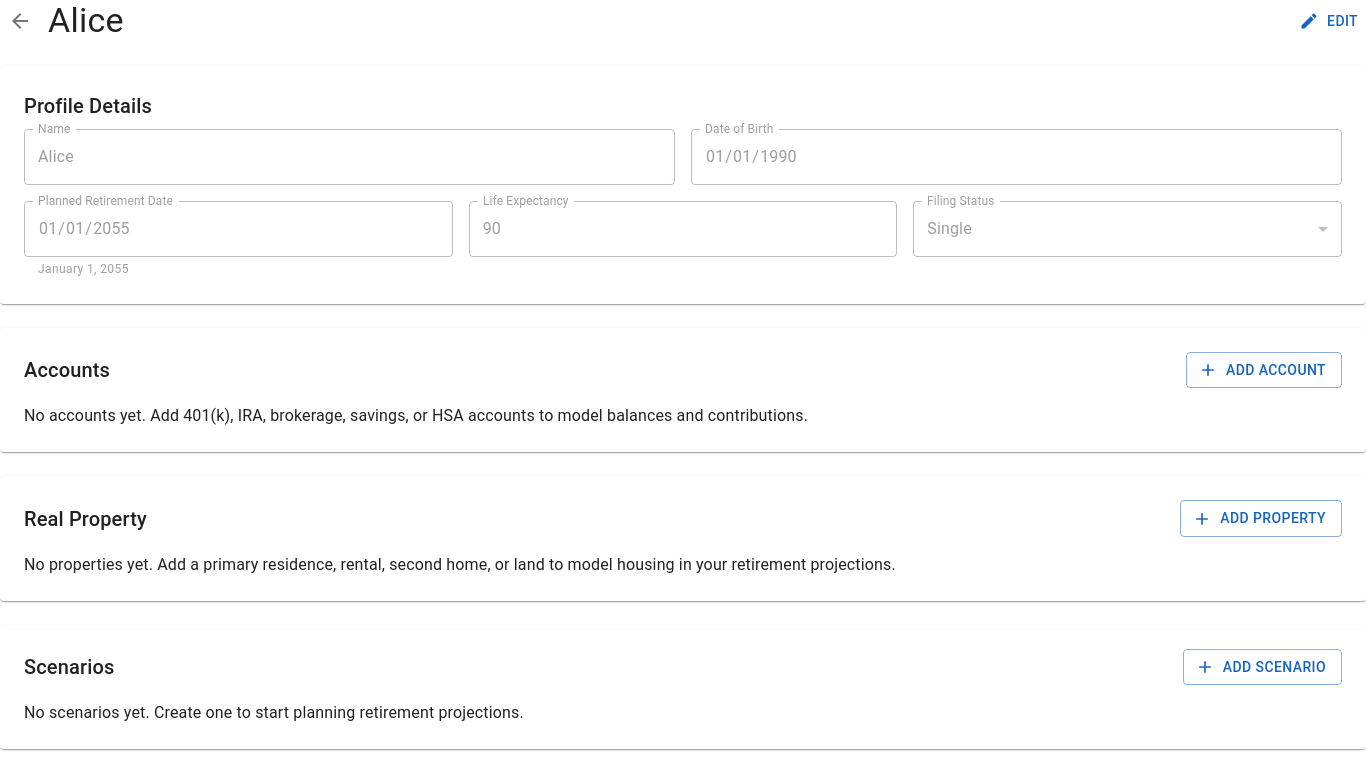
it: ProfileDetailPage › disables Replacement Housing Cost until a Planned Sale Date is entered
Click the button "Add Property": (1261, 519) [1180,500,1342,537]
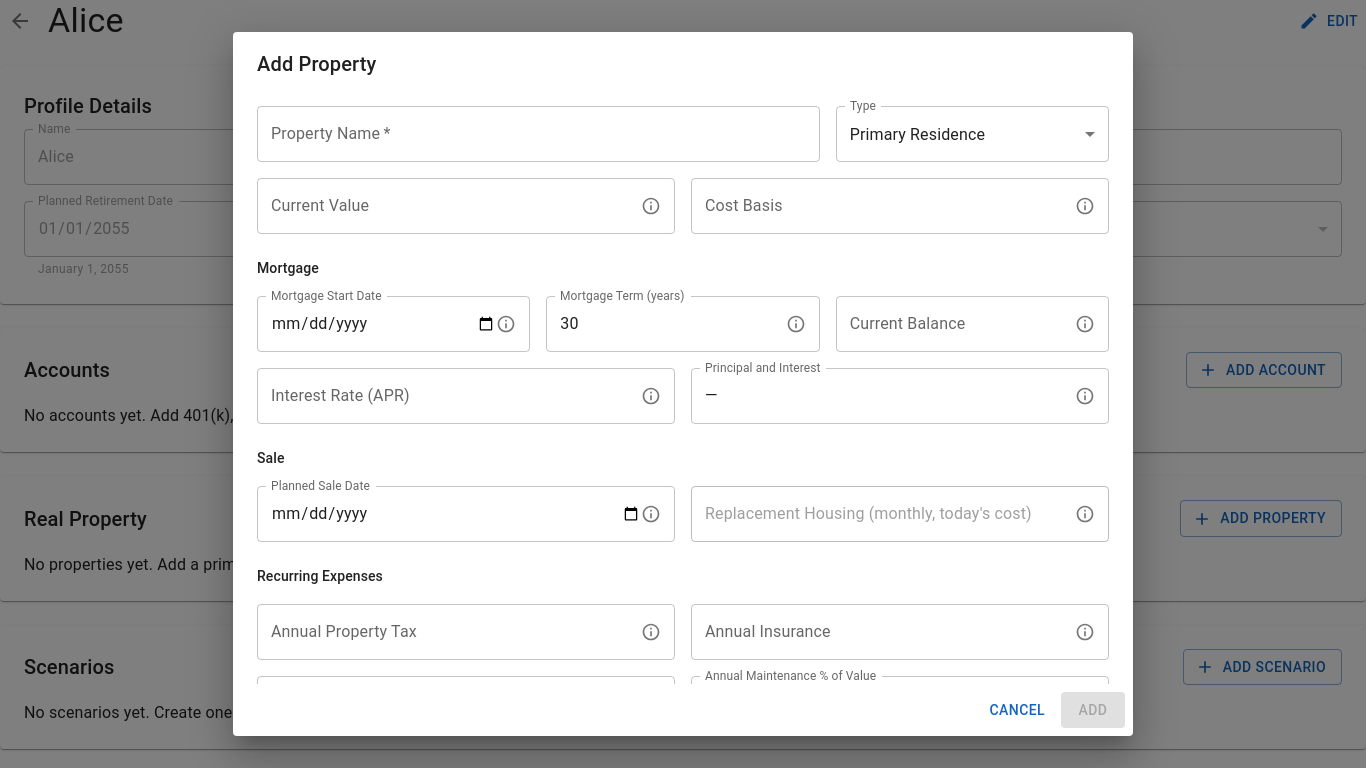
Check: the number field labelled "Replacement Housing (monthly, today's cost)" is disabled, box [691,486,1075,542]
In the date field labelled "Planned Sale Date": (449, 514) [257,486,641,542], type "2040-06-01"
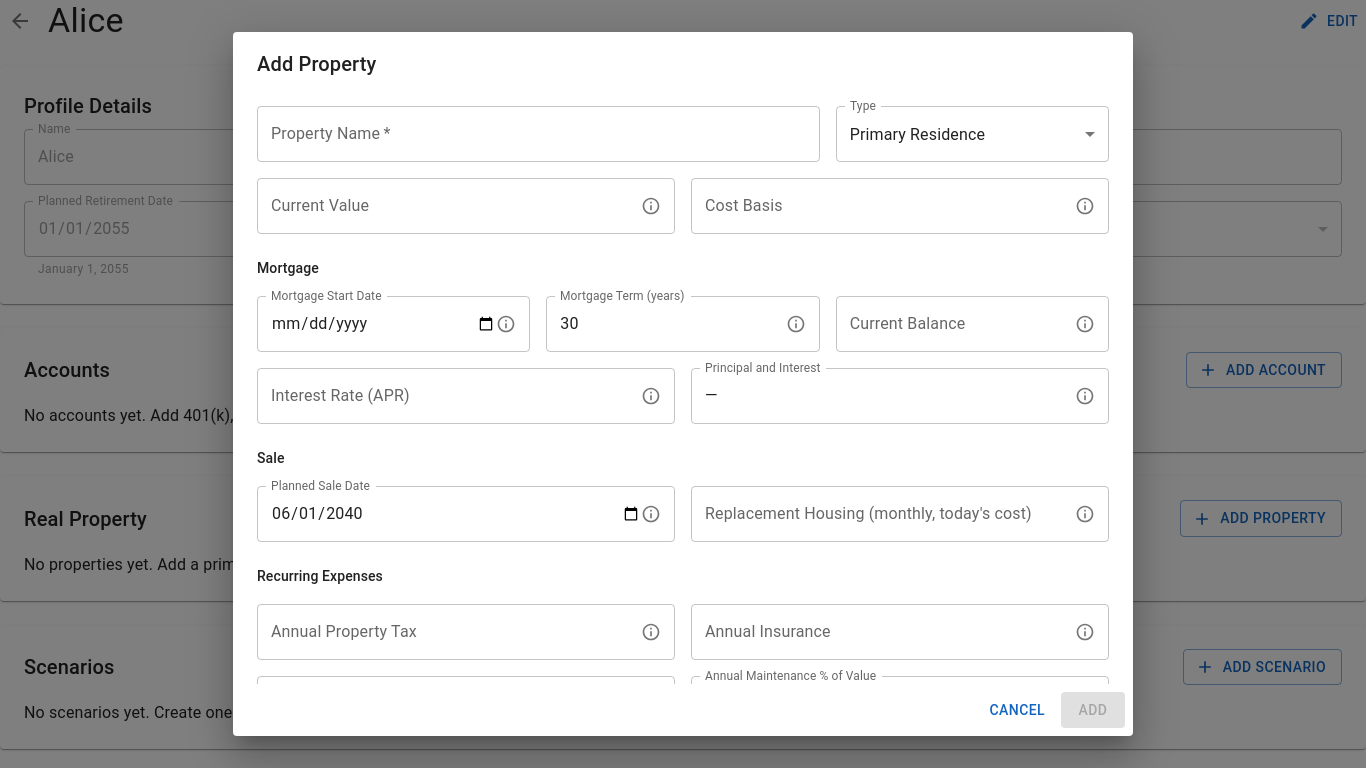
Check: the number field labelled "Replacement Housing (monthly, today's cost)" is enabled, box [691,486,1075,542]
